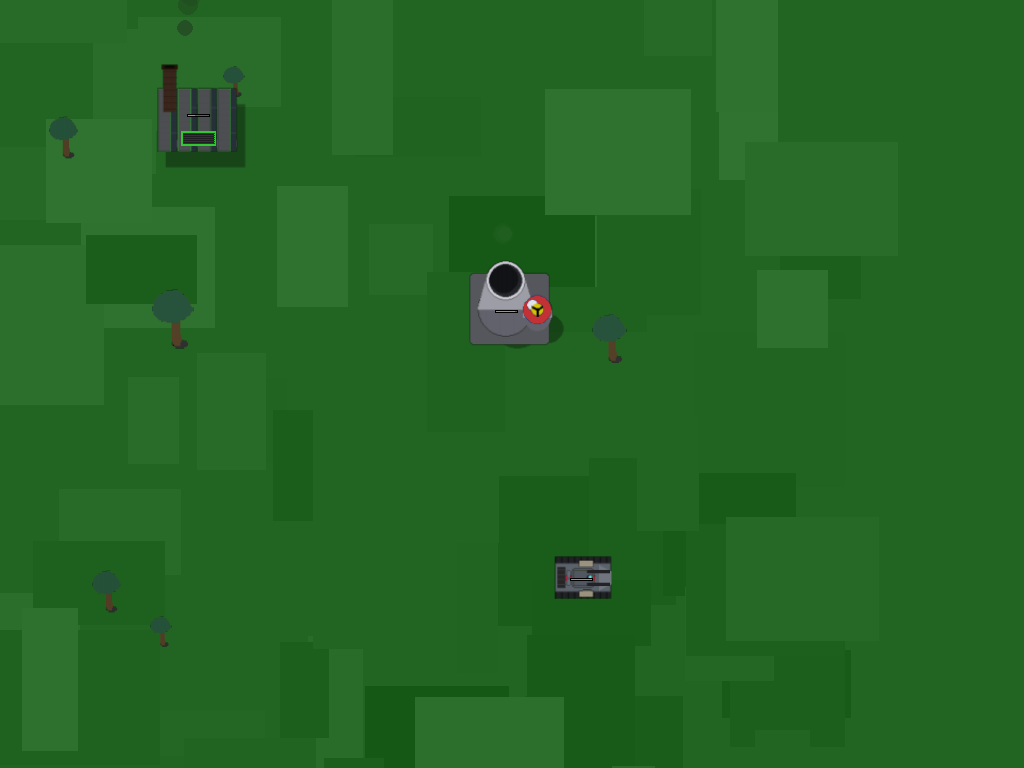APC_rus: (556, 551, 607, 602)
FactoryBuilding: (145, 60, 251, 166)
PowerPlant: (473, 275, 540, 342)
